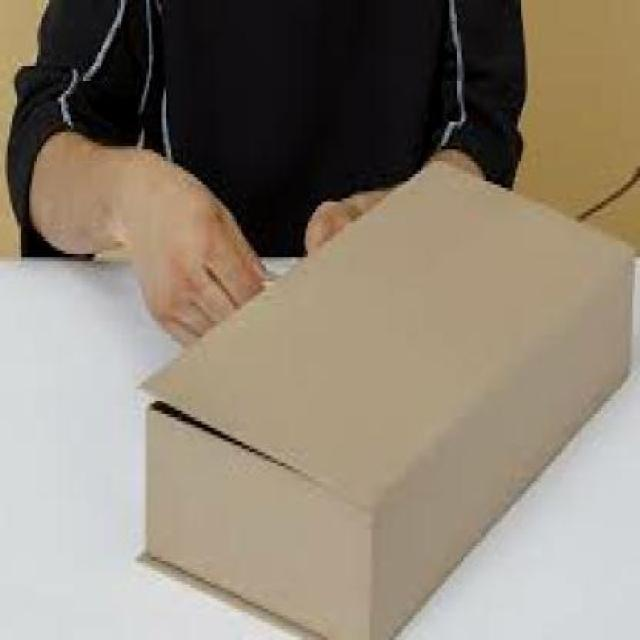box: (127, 152, 638, 637)
